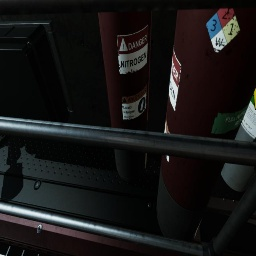0: (221, 88, 256, 192)
NitrogenTank ,: (156, 8, 256, 242), (98, 11, 152, 183)
